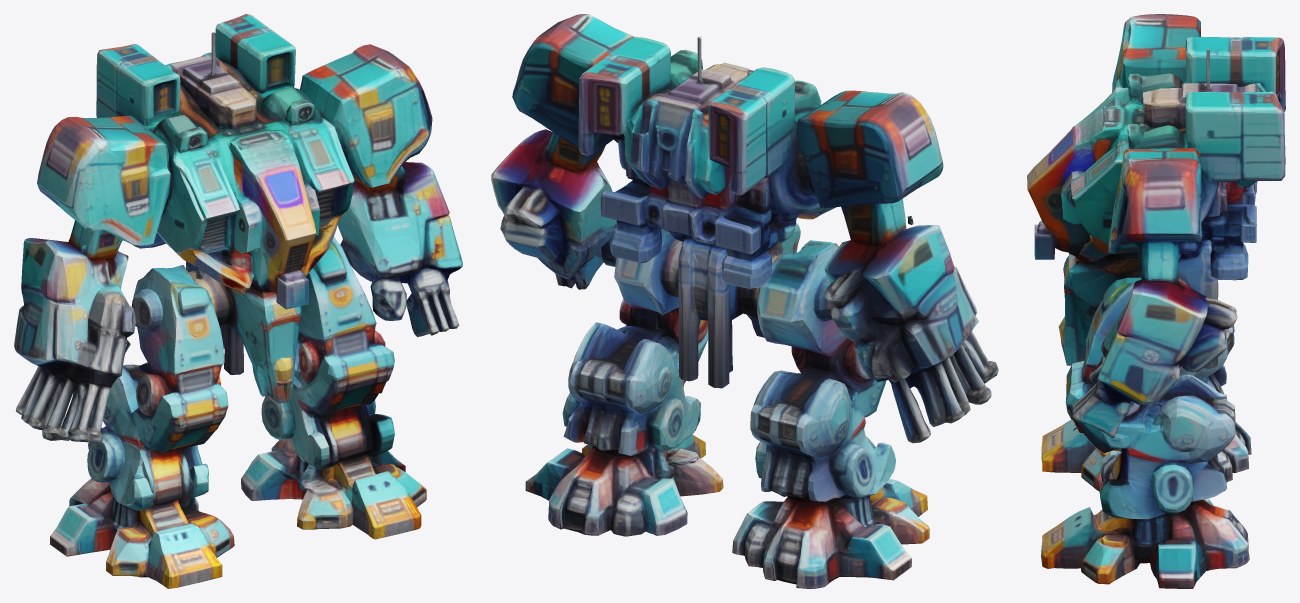
File: dragon_6.glb
3 views of the same model, side by side, from view 1: azimuth 30°, elevation 25°; view 2: azimuth 150°, elevation 25°; view 3: azimuth 270°, elevation 25° (orthographic). The views are drawn at different scales.
Parts seen in each view (by area): view 1: world; view 2: world; view 3: world.
Part boxes in pixels (box(x1,y1,x2,y2)): world: box(14, 14, 462, 588); world: box(491, 14, 998, 588); world: box(1027, 14, 1285, 588).
Bounding box in the file's own units: 0.9501 × 1 × 0.5115.
1 material, 1 textured.
